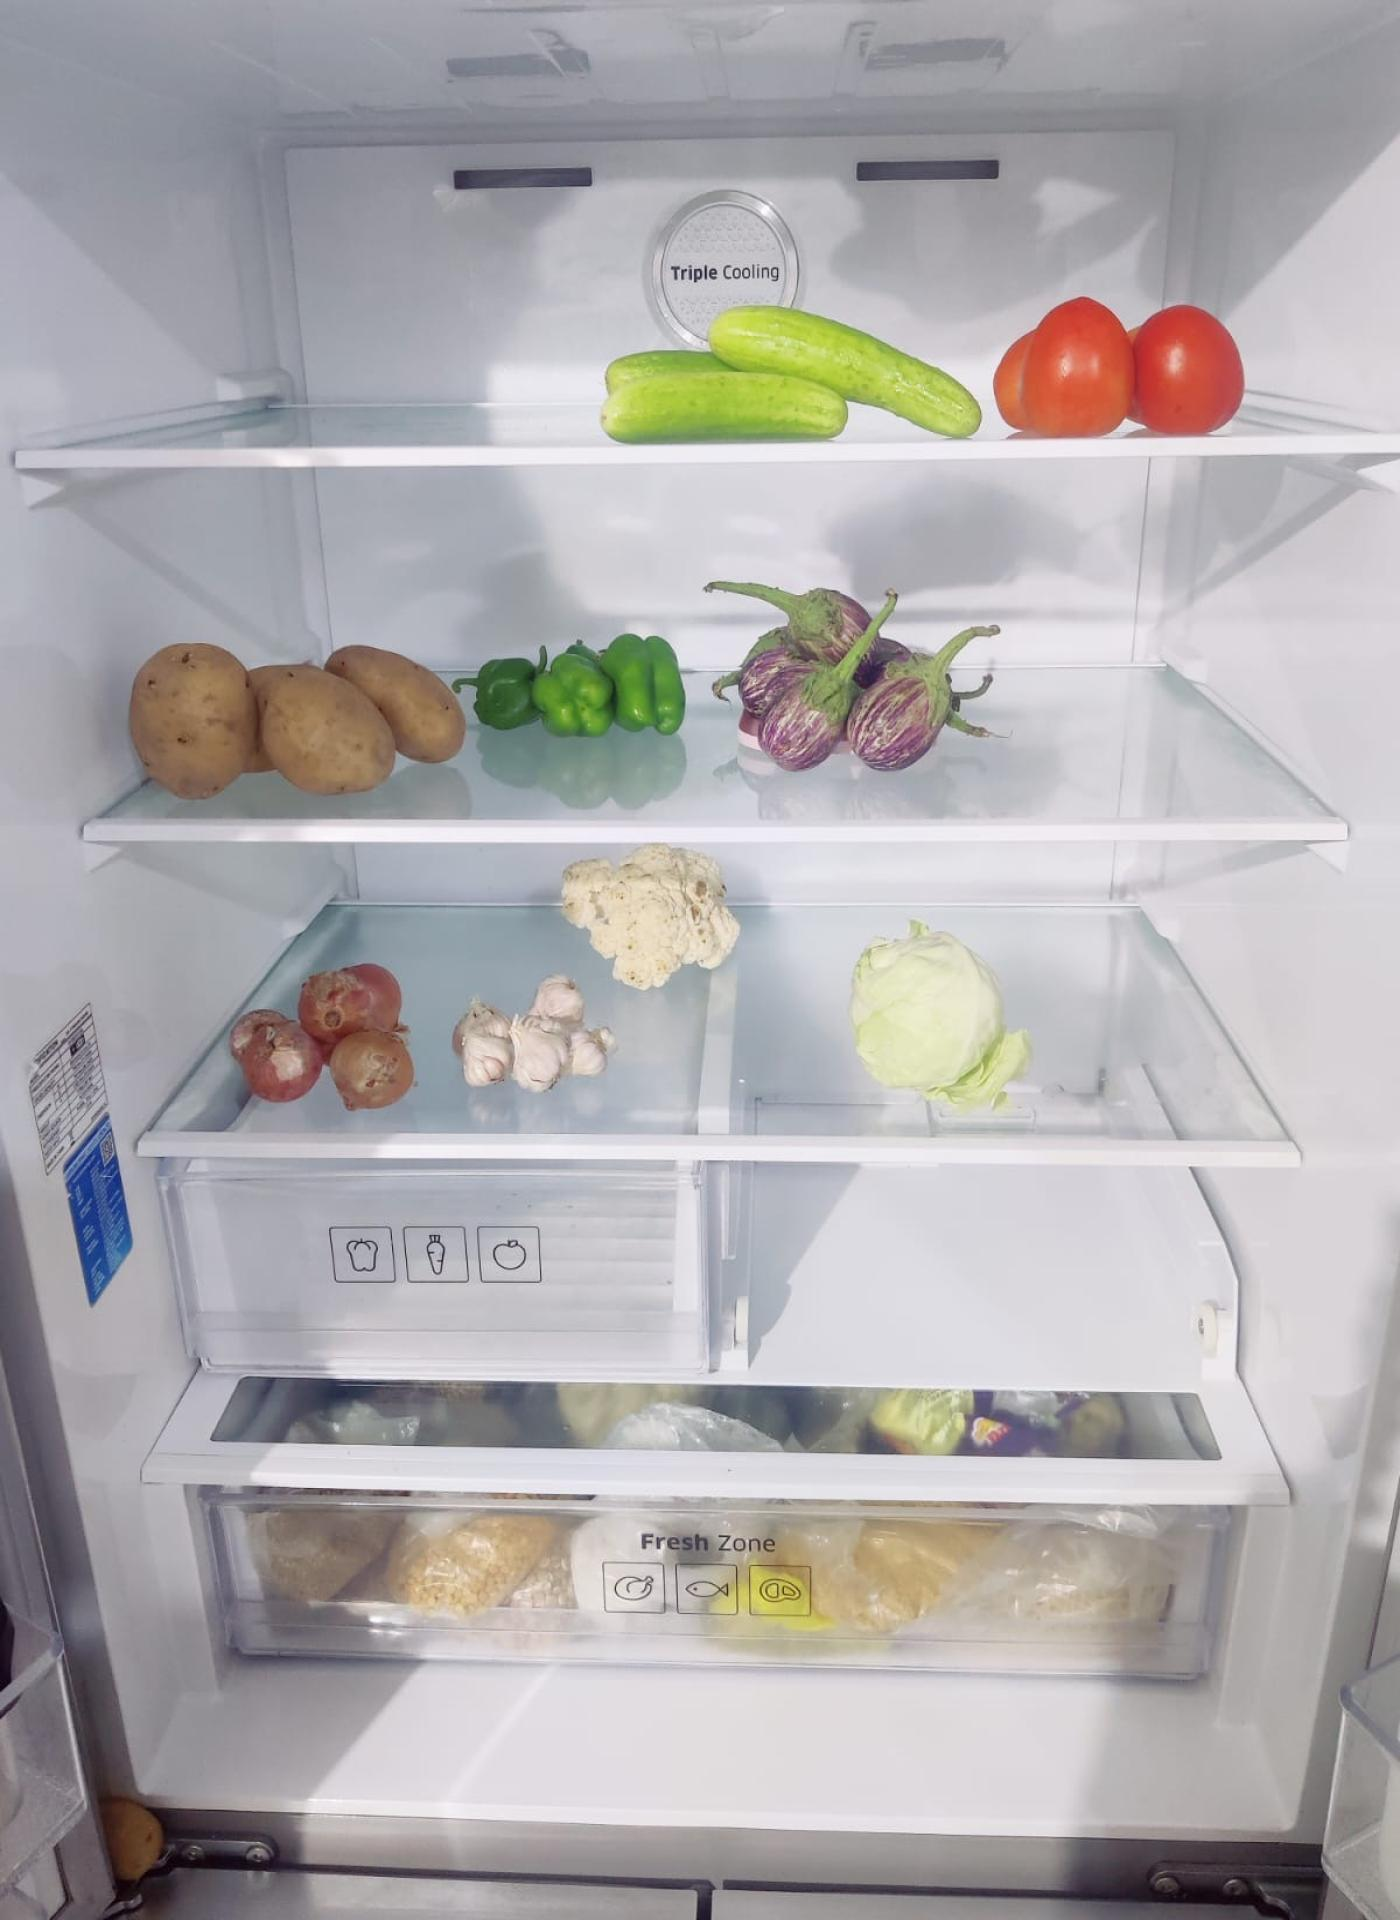brinjal: (744, 586, 971, 766)
cabbage: (854, 926, 1021, 1102)
capsicum: (479, 631, 689, 739)
cauliflower: (564, 839, 744, 981)
cucumber: (607, 303, 981, 437)
garlic: (450, 978, 608, 1096)
onion: (236, 961, 417, 1105)
potato: (131, 631, 470, 790)
tomato: (993, 301, 1248, 443)
